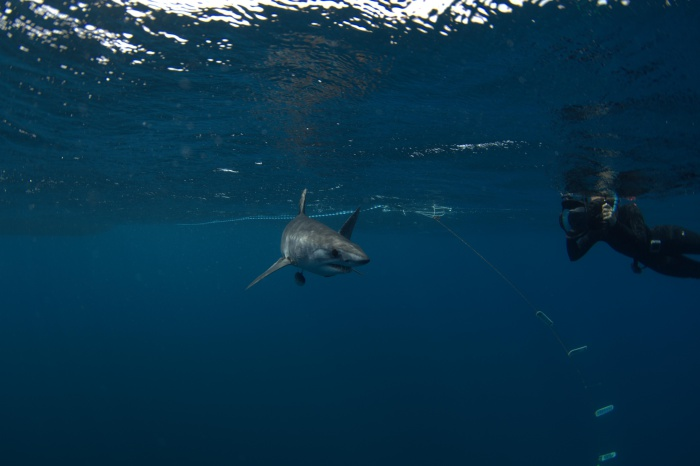Mako: (238, 182, 381, 305)
